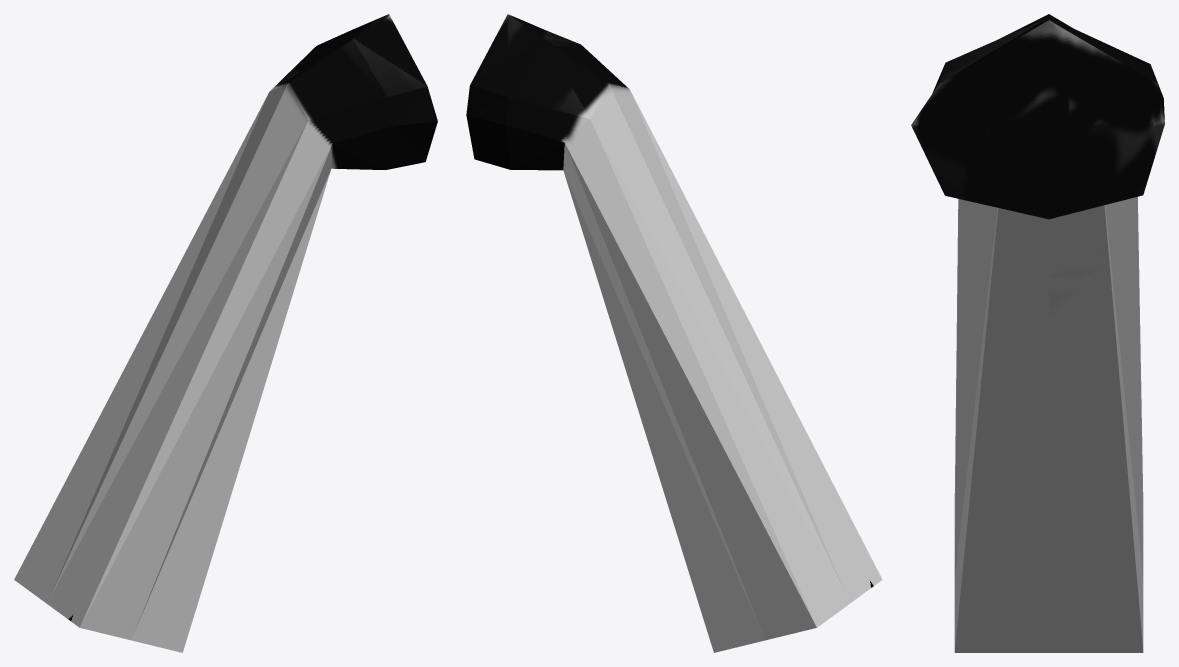
Rendered from Enemy_R_arm.obj.
3 renders of one model, left to right at view 1: azimuth 30°, elevation 25°; view 2: azimuth 150°, elevation 25°; view 3: azimuth 270°, elevation 25°, orthographic. The views are drawn at different scales.
Parts seen in each view (by area): view 1: 立方体.001_立方体.002; view 2: 立方体.001_立方体.002; view 3: 立方体.001_立方体.002.
Boxes of the visible parts, box(x1,y1,x2,y2) form: 立方体.001_立方体.002: box(14, 14, 437, 652); 立方体.001_立方体.002: box(466, 14, 882, 652); 立方体.001_立方体.002: box(911, 14, 1164, 652).
Bounding box in the file's own units: 0.7081 × 1.1 × 0.3154.
Materials: 1 (1 with a texture image).
